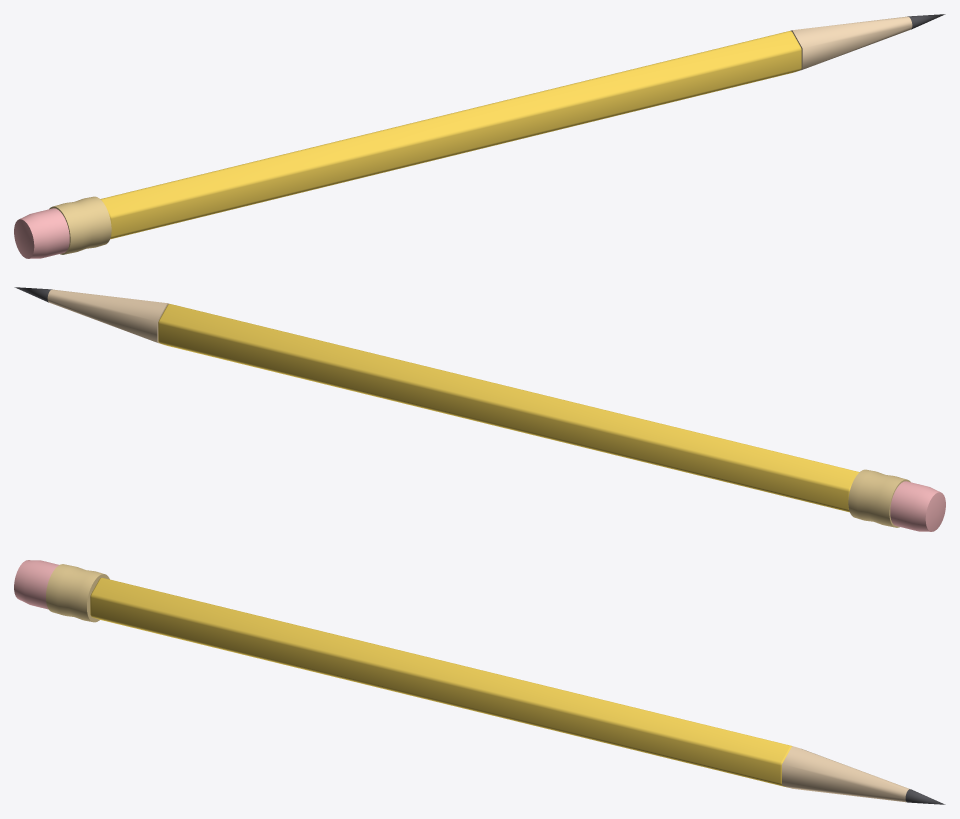
File: pencil.glb
The picture shows the model from 3 angles, top to bottom: view 1: azimuth 30°, elevation 25°; view 2: azimuth 150°, elevation 25°; view 3: azimuth 330°, elevation 25°; orthographic projection.
Visible parts, largest first — view 1: Pencil; view 2: Pencil; view 3: Pencil.
Part boxes in pixels (x1,y1,x2,y2): Pencil: [14, 14, 945, 258]; Pencil: [14, 287, 945, 531]; Pencil: [14, 560, 945, 804].
Bounding box in the file's own units: 1.89 × 0.09 × 0.09.
